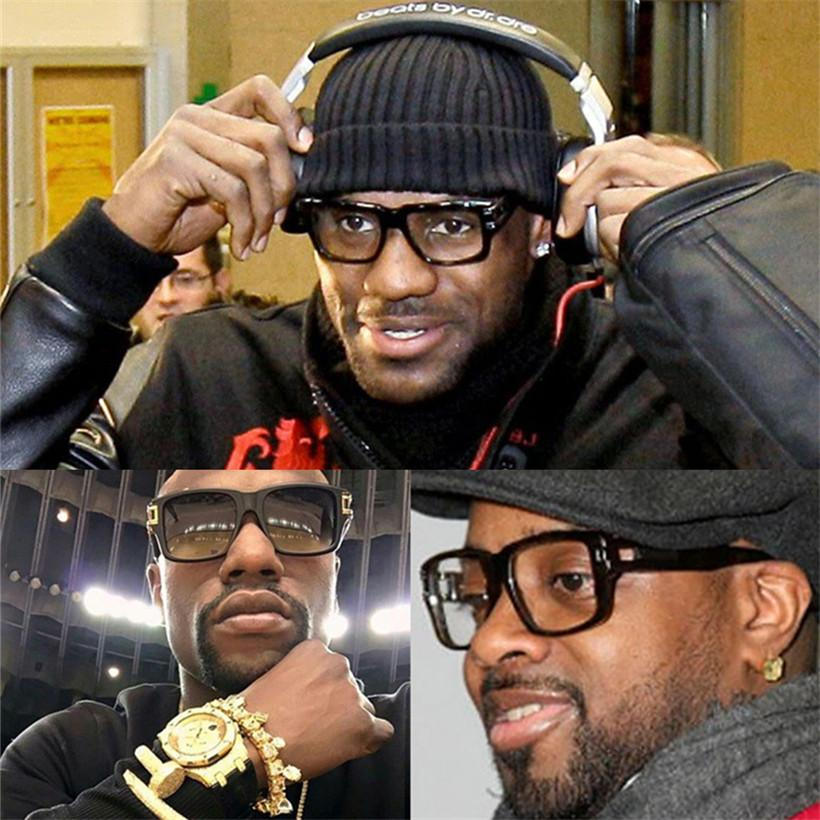sunglasses: (411, 543, 768, 636), (254, 181, 554, 256), (123, 481, 380, 562)
